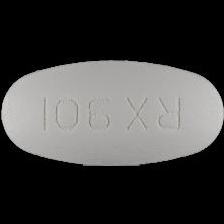63304-901: (0, 0, 224, 224)
